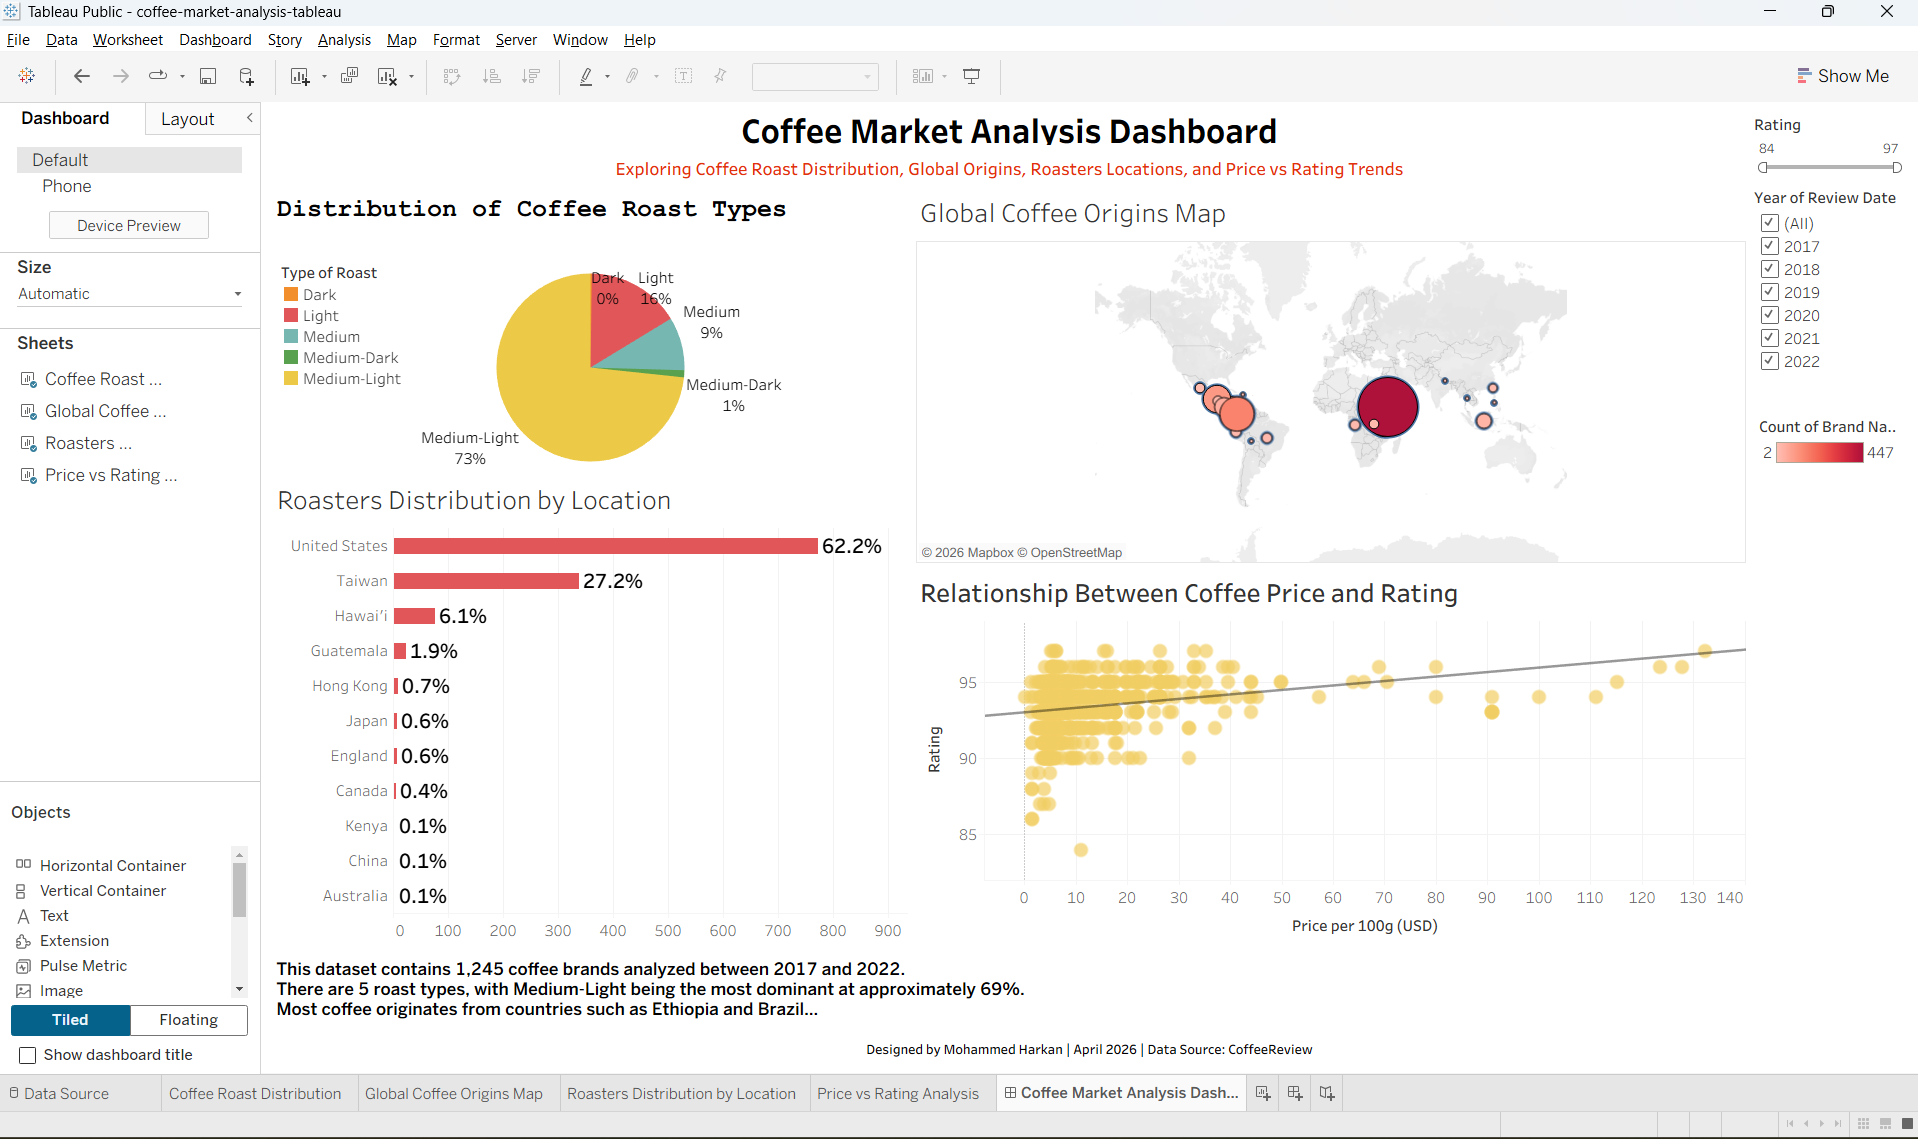

The page's visual inventory and layout, read from the dashboard file:
{"tool":"tableau","page":{"name":"Coffee Market Analysis Dashboard","canvas":[1000,1000],"units":"permille","ordinal":0},"visuals":[{"type":"text","box":[4.8,8.2,893.8,39.7]},{"type":"filter","title":"Coffee Roast Distribution","param":"[federated.0c5mlnb09dljxv15r0rj81l0z8qh].[none:Rating:qk]","box":[898.6,8.2,96.6,75.2]},{"type":"text","box":[4.8,48,893.8,39.7]},{"type":"filter","title":"Global Coffee Origins Map","param":"[federated.0c5mlnb09dljxv15r0rj81l0z8qh].[yr:Review Date:ok]","box":[898.6,83.4,96.6,202.9]},{"type":"worksheet","title":"Coffee Roast Distribution","mark":"Pie","box":[4.8,87.7,388,295.5]},{"type":"worksheet","title":"Global Coffee Origins Map","mark":"Automatic","rows":["Origin Latitude"],"cols":["origin longitude"],"box":[392.9,87.7,505.7,391.2]},{"type":"legend","title":"Coffee Roast Distribution","param":"[federated.0c5mlnb09dljxv15r0rj81l0z8qh].[none:Type of Roast:nk]","box":[12.1,164.8,84.5,130.8]},{"type":"legend","title":"Global Coffee Origins Map","param":"[federated.0c5mlnb09dljxv15r0rj81l0z8qh].[cnt:Brand Name:qk]","box":[904,323.4,84.5,90.6]},{"type":"worksheet","title":"Roasters Distribution by Location","mark":"Automatic","rows":["Roaster Location"],"cols":["Roasters"],"box":[4.8,383.1,388,487]},{"type":"worksheet","title":"Price vs Rating Analysis","mark":"Circle","rows":["Rating"],"cols":["Price per 100g (USD)"],"box":[392.9,478.9,505.7,391.2]},{"type":"text","box":[4.8,870.1,990.3,88.7]},{"type":"text","box":[4.8,958.8,990.3,33]}]}

Visuals, with their boxes on the dashboard's canvas, which has no fixed pixel size, in thousandths of its width and height (x1, y1, x2, y2). These are canvas units, not pixel positions in the 1918x1139 screenshot, which may show the page scaled, cropped or inside an application window:
text: rect(5, 8, 899, 48)
"Coffee Roast Distribution" filter: rect(899, 8, 995, 83)
text: rect(5, 48, 899, 88)
"Global Coffee Origins Map" filter: rect(899, 83, 995, 286)
"Coffee Roast Distribution" worksheet (Pie marks): rect(5, 88, 393, 383)
"Global Coffee Origins Map" worksheet: rect(393, 88, 899, 479)
"Coffee Roast Distribution" legend: rect(12, 165, 97, 296)
"Global Coffee Origins Map" legend: rect(904, 323, 988, 414)
"Roasters Distribution by Location" worksheet: rect(5, 383, 393, 870)
"Price vs Rating Analysis" worksheet (Circle marks): rect(393, 479, 899, 870)
text: rect(5, 870, 995, 959)
text: rect(5, 959, 995, 992)
